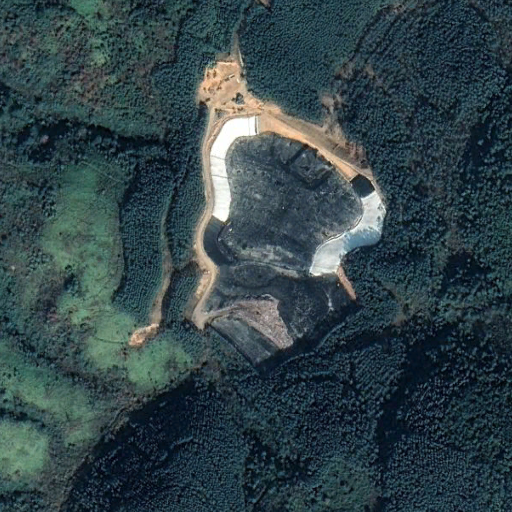lf: (194, 112, 389, 368)
